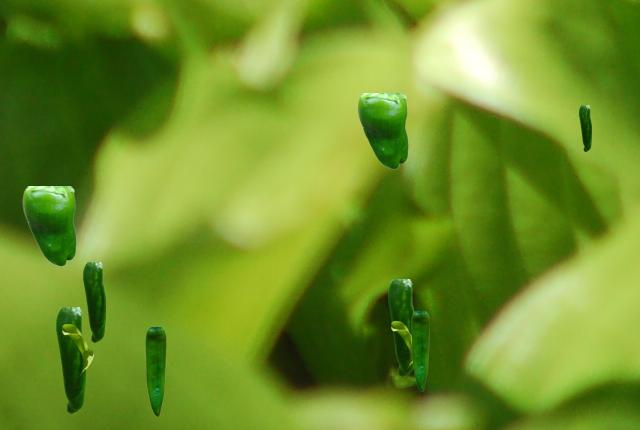green_chili: (22, 186, 75, 265), (357, 93, 407, 168), (56, 307, 84, 412), (388, 279, 414, 375), (145, 327, 165, 415), (83, 262, 104, 341), (411, 311, 428, 390), (579, 105, 590, 150)
